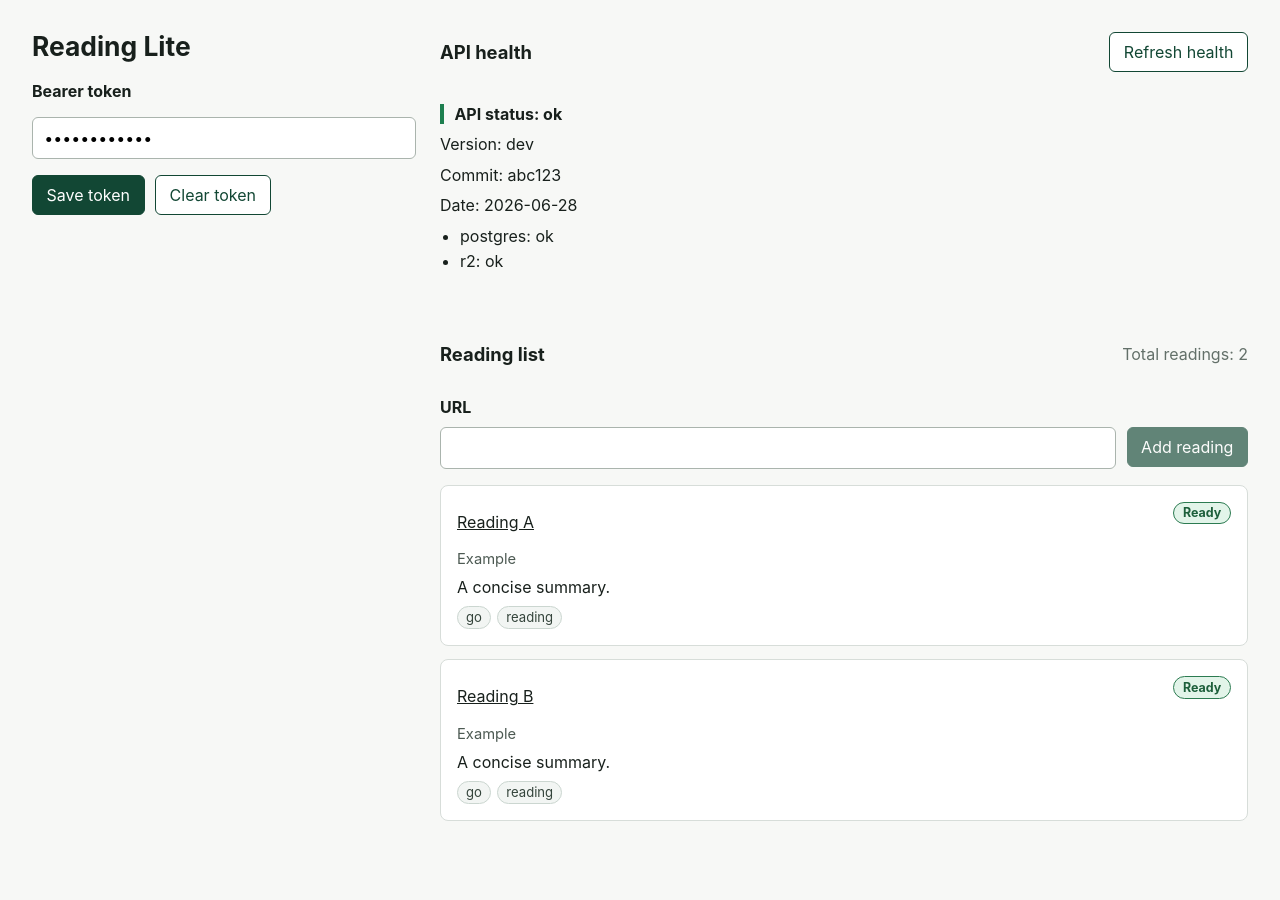
Scenario: ReadingDetail › renders reading B when B is selected while reading A detail fetch is still in flight
The image size is (1280, 900).
Click the button "Reading A" at (496, 522), box [457,502,534,542]
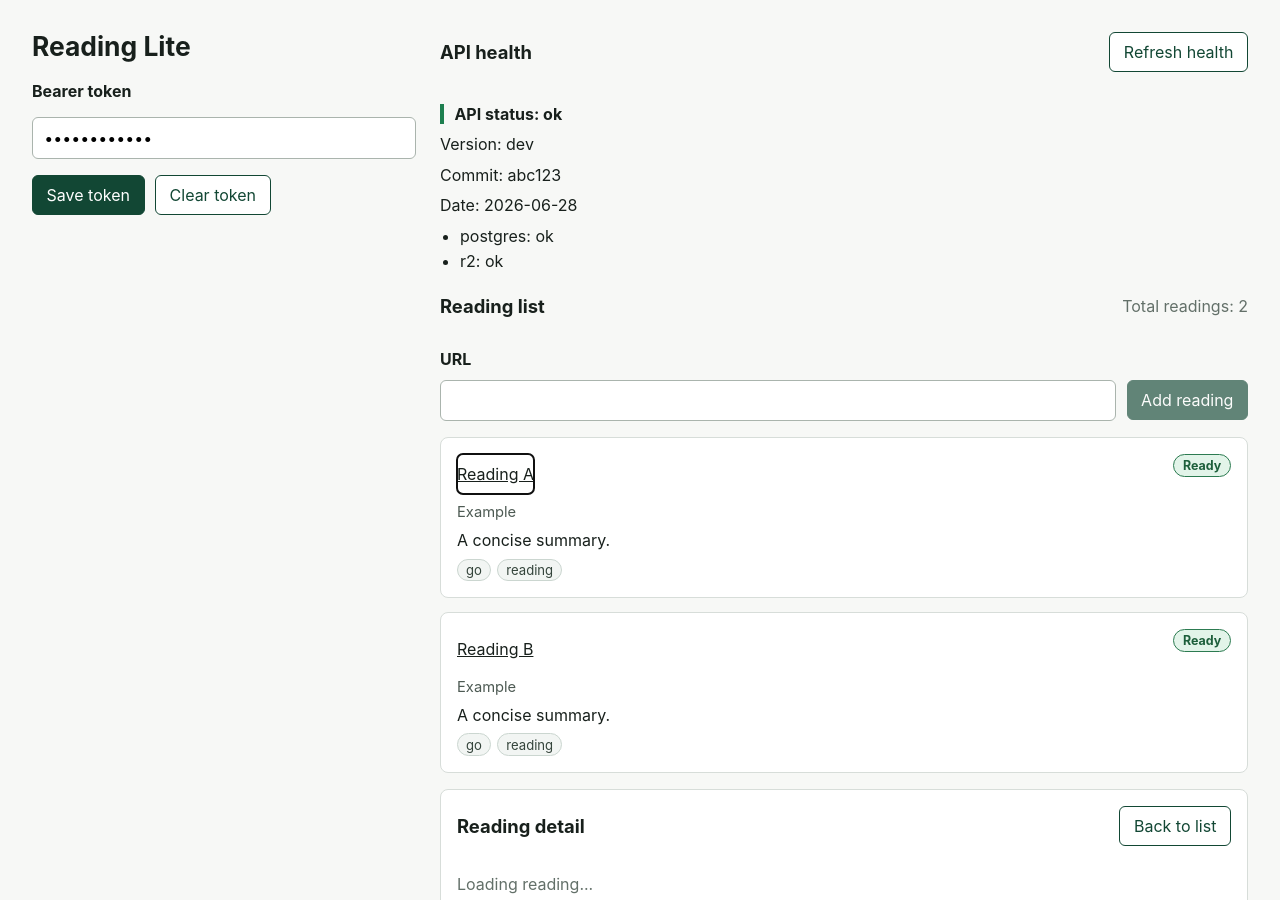
Click the button "Reading B" at (495, 649), box [457,629,533,669]
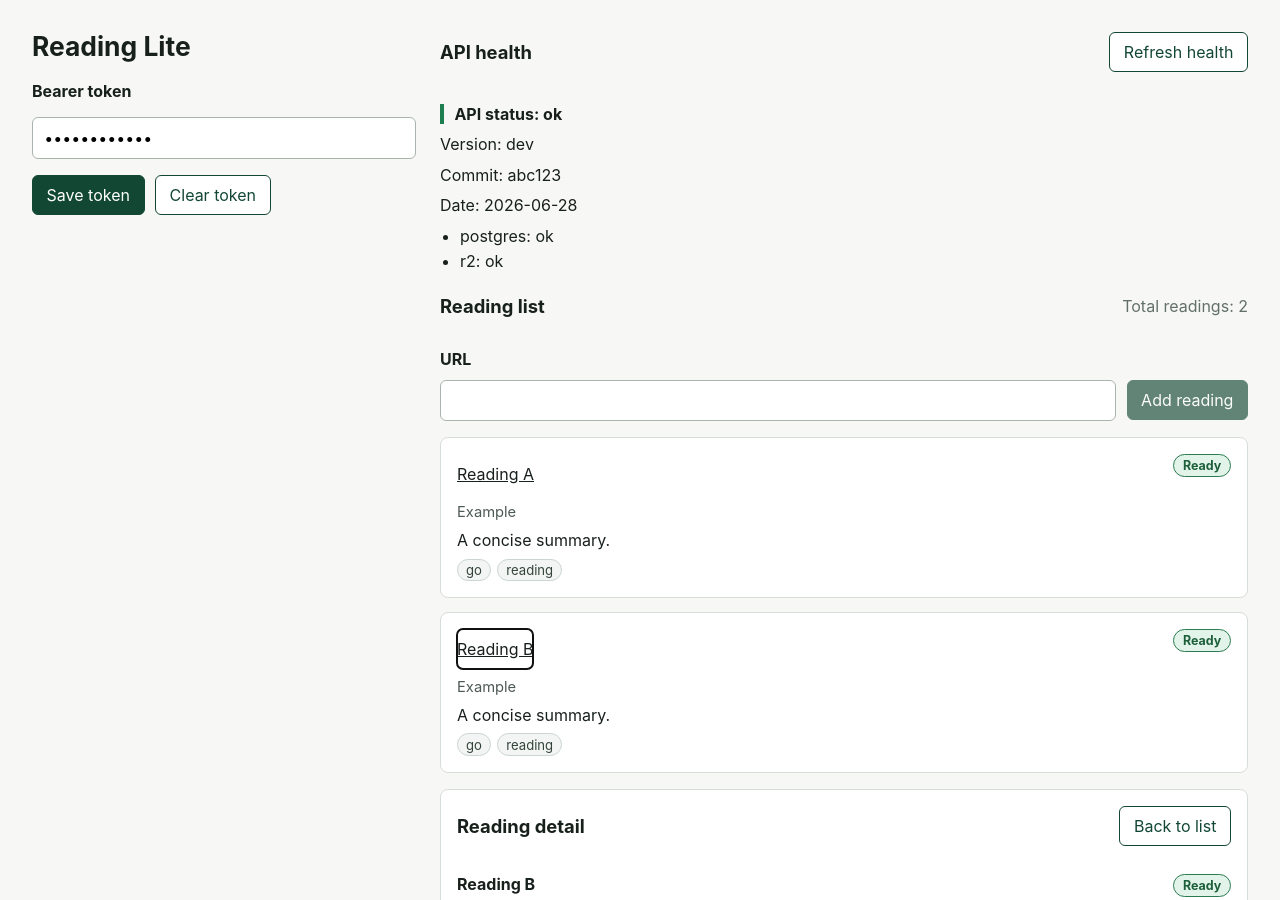
Result: the heading "Reading B" is shown at [457,874,535,895]
